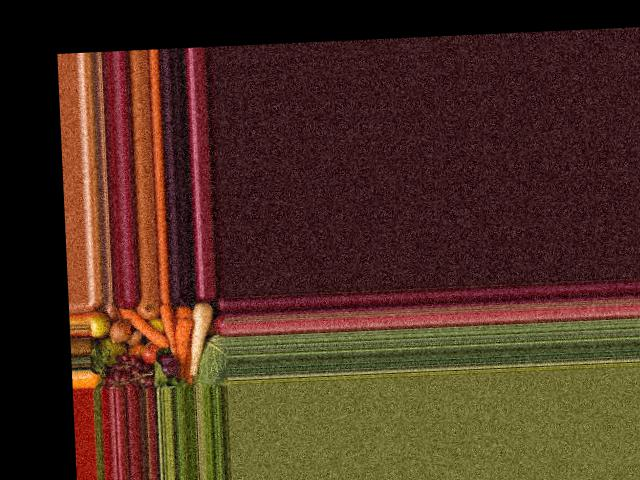carrot: (176, 315, 190, 379)
